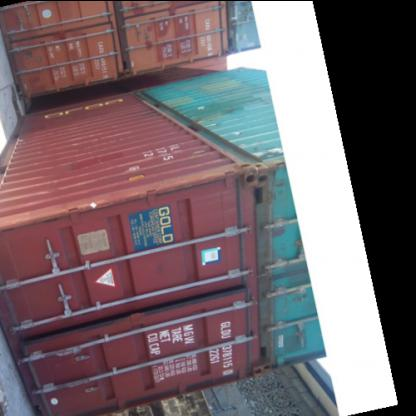Damage: (135, 168, 244, 196)
